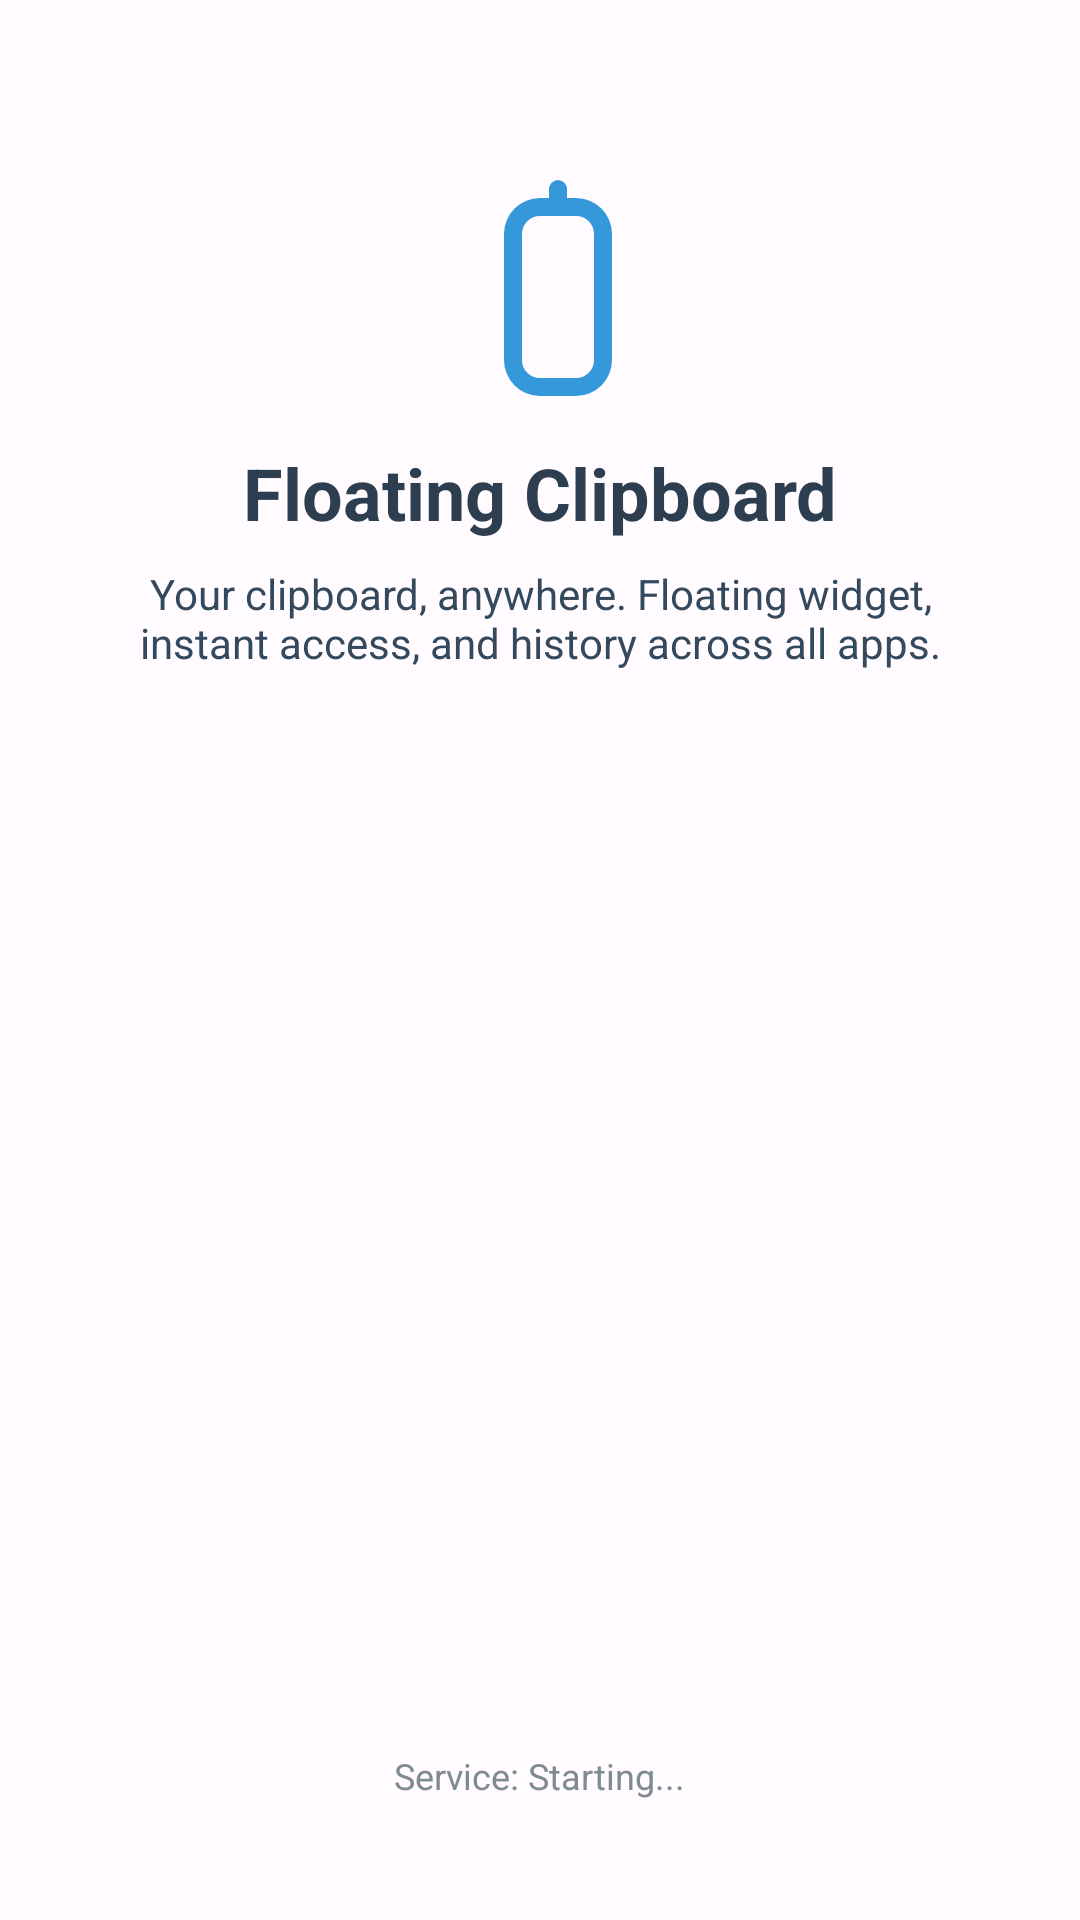

Icons on this 1080w x 1920h Android screen, each with its box as [x1, y1, x2, y2]:
App Icon: [504, 180, 612, 396]
